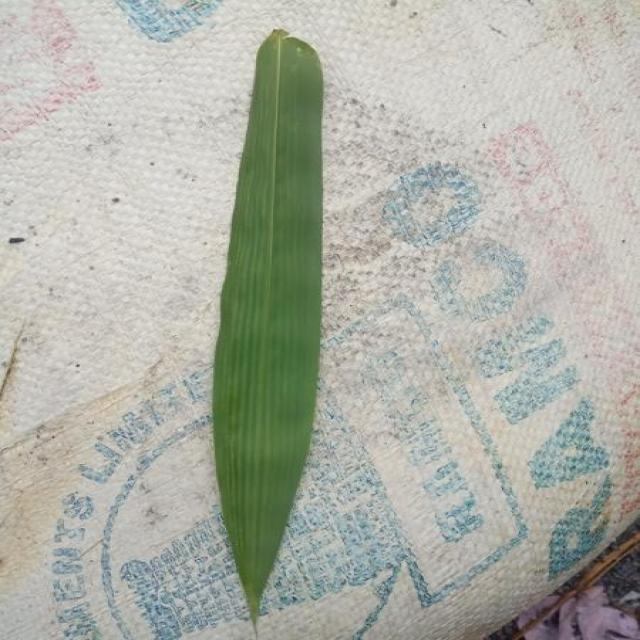Bamboo: (212, 30, 323, 624)
